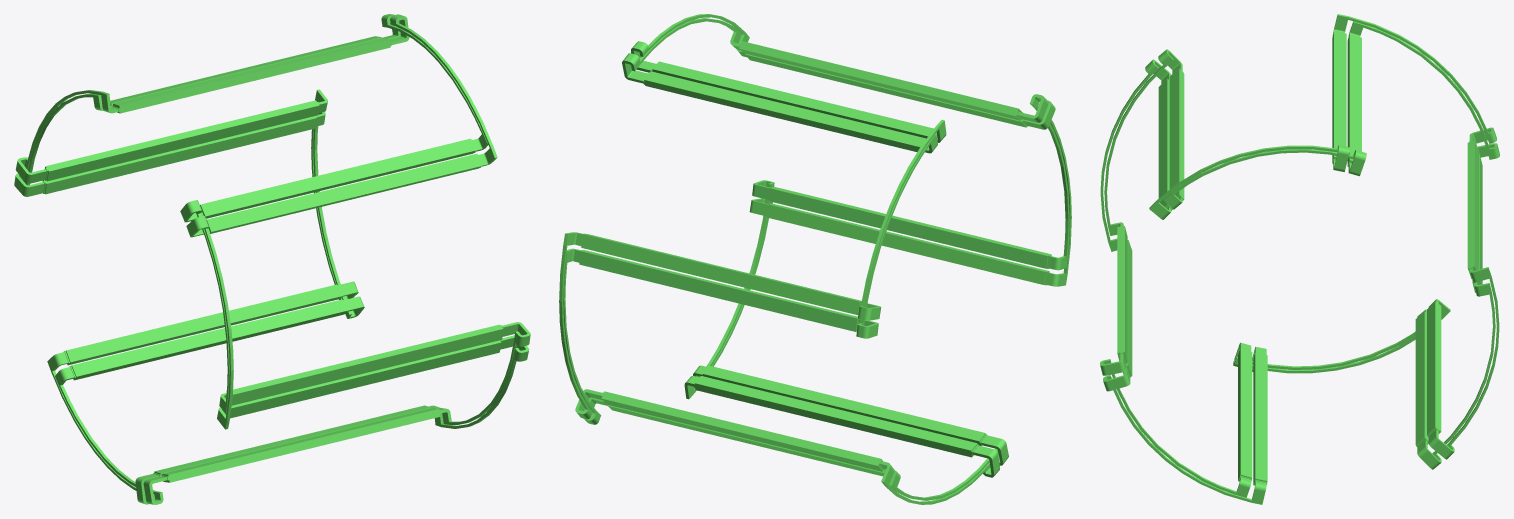
The model's file is PhaseC1.glb.
3 renders of one model, left to right at view 1: azimuth 30°, elevation 25°; view 2: azimuth 150°, elevation 25°; view 3: azimuth 270°, elevation 25°, orthographic. The views are drawn at different scales.
Parts seen in each view (by area): view 1: Phase C1; view 2: Phase C1; view 3: Phase C1.
Boxes of the visible parts, <box> form: Phase C1: <box>14,14,530,504</box>; Phase C1: <box>559,14,1071,504</box>; Phase C1: <box>1100,14,1499,504</box>.
Size of the model in its own units: 0.5268 by 0.6216 by 0.6177.
